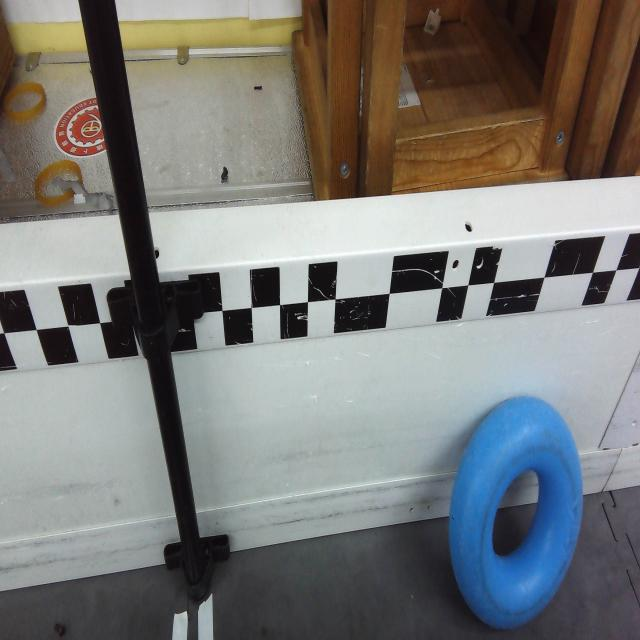Blue-Ring: (448, 397, 584, 627)
